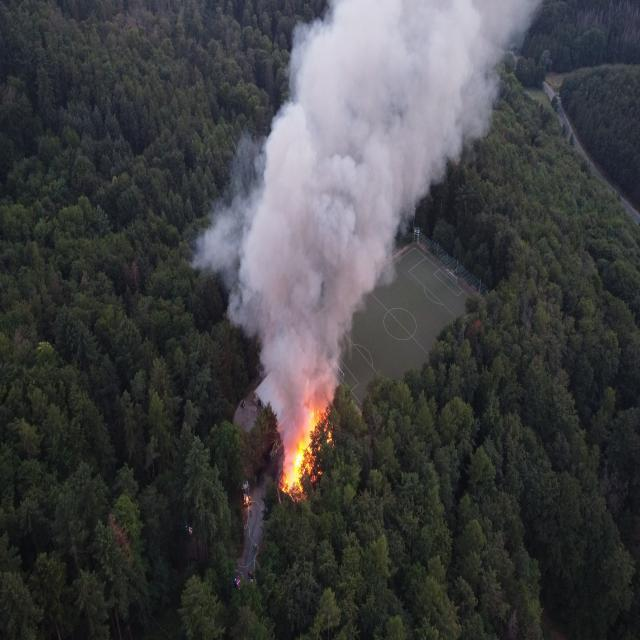Fire: (284, 402, 322, 496)
Smoke: (185, 0, 541, 402)
